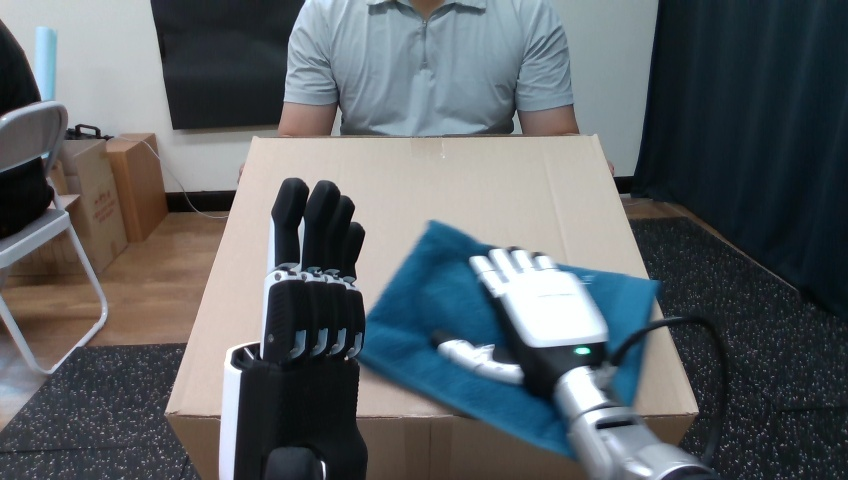left robot hand: (432, 248, 726, 479), (219, 178, 366, 479), (611, 322, 722, 462)
